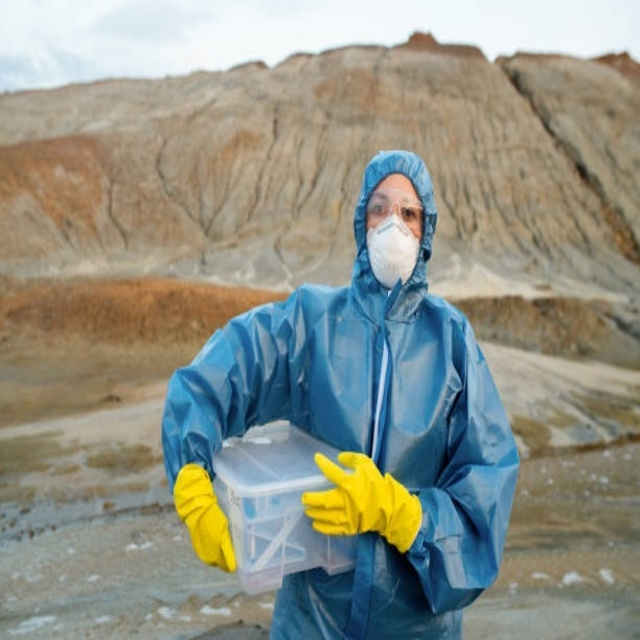Gafas: (366, 198, 426, 235)
Guantes: (304, 451, 421, 551), (172, 464, 236, 573)
Mascara: (366, 216, 420, 289)
